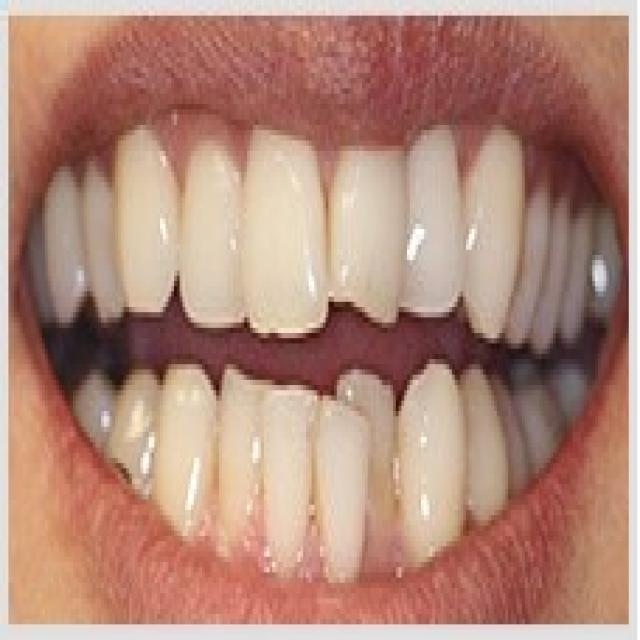tooth: (241, 136, 337, 344), (393, 349, 466, 572), (328, 146, 404, 343), (177, 125, 250, 328), (314, 380, 376, 619), (261, 364, 320, 593), (138, 364, 222, 520), (109, 120, 177, 307), (402, 130, 464, 333), (469, 114, 519, 343), (354, 364, 401, 578), (213, 369, 264, 557), (458, 375, 520, 520), (73, 146, 121, 312), (48, 193, 87, 307)
